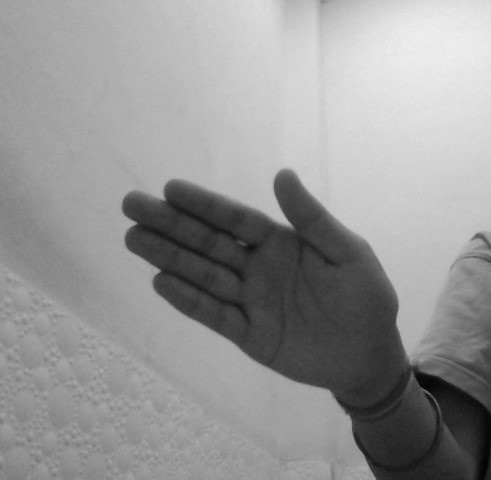Hello: (116, 165, 404, 399)
